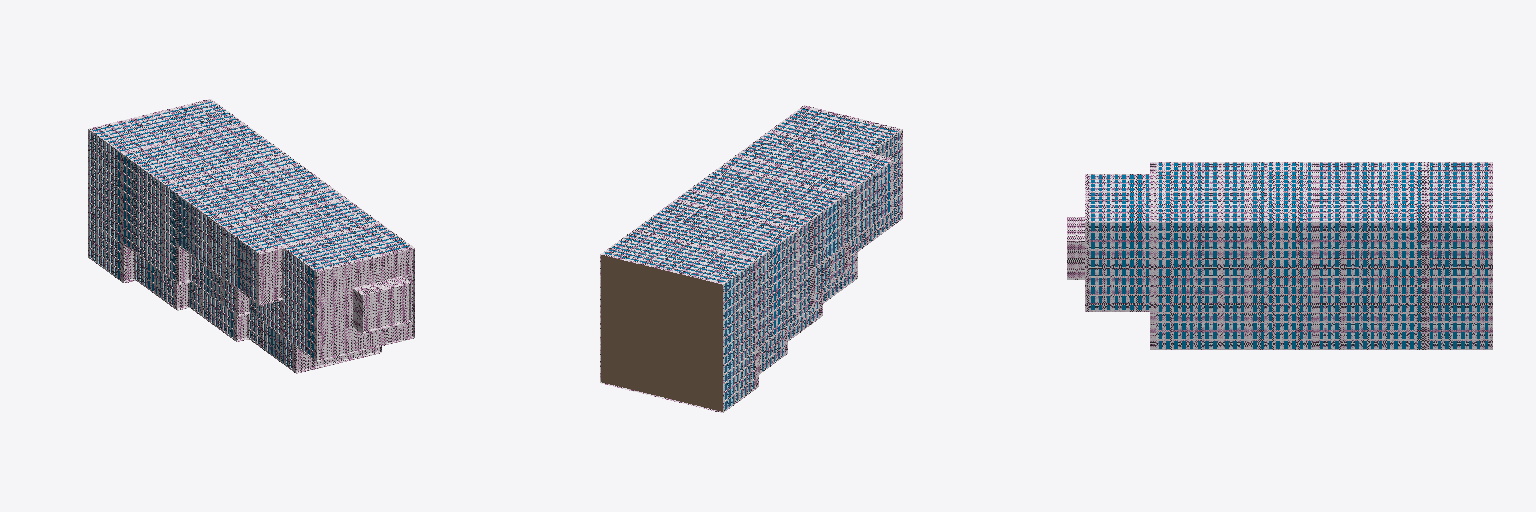
The picture shows the model from 3 angles: view 1: azimuth 30°, elevation 25°; view 2: azimuth 150°, elevation 25°; view 3: azimuth 270°, elevation 25°; orthographic projection.
Parts seen in each view (by area): view 1: Wall_1_04, Wall_1_01, Wall_02, Glaz_01, Wall_03, Wall_06, Wall_1_02, Wall_05; view 2: Slab_01, Wall_1_01, Wall_02, Glaz_01, Wall_1_04, Wall_03, Wall_06, Wall_01, Wall_1_02; view 3: Glaz_01, Wall_1_01, Wall_02, Wall_03, Wall_01.
Part boxes in pixels (left/top/right/bottom): Wall_1_04: left=90, top=101, right=414, bottom=373; Wall_1_01: left=89, top=100, right=414, bottom=371; Wall_02: left=92, top=102, right=412, bottom=370; Glaz_01: left=91, top=102, right=408, bottom=367; Wall_03: left=90, top=101, right=411, bottom=369; Wall_06: left=363, top=283, right=411, bottom=333; Wall_1_02: left=122, top=244, right=381, bottom=372; Wall_05: left=358, top=280, right=410, bottom=333; Slab_01: left=601, top=255, right=722, bottom=411; Wall_1_01: left=601, top=105, right=902, bottom=411; Wall_02: left=604, top=107, right=899, bottom=409; Glaz_01: left=605, top=109, right=898, bottom=409; Wall_1_04: left=641, top=108, right=897, bottom=372; Wall_03: left=603, top=108, right=898, bottom=410; Wall_06: left=606, top=232, right=754, bottom=402; Wall_01: left=600, top=130, right=868, bottom=412; Wall_1_02: left=757, top=153, right=893, bottom=387; Glaz_01: left=1091, top=163, right=1487, bottom=348; Wall_1_01: left=1085, top=162, right=1489, bottom=349; Wall_02: left=1089, top=162, right=1484, bottom=349; Wall_03: left=1091, top=162, right=1487, bottom=349; Wall_01: left=1151, top=162, right=1492, bottom=349.
Bounding box in the file's own units: 1091 × 1091 × 3273.
3 materials, 1 textured.